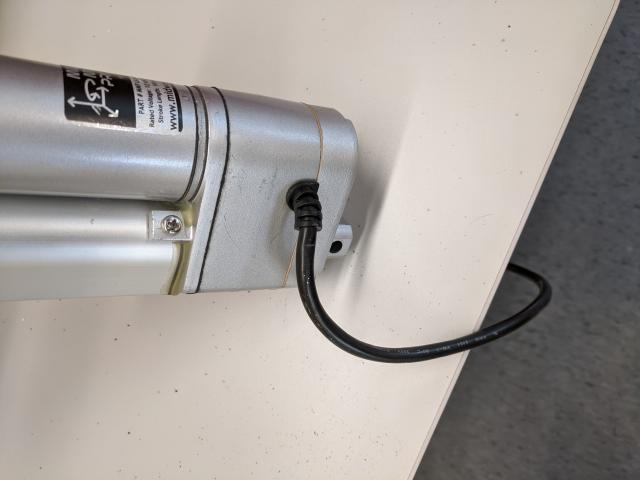CRS: (163, 214, 183, 236)
